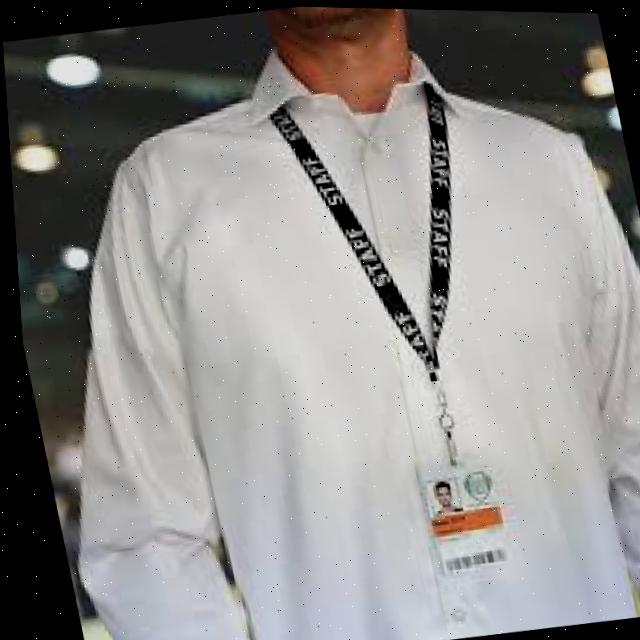id_card: (266, 91, 542, 594)
